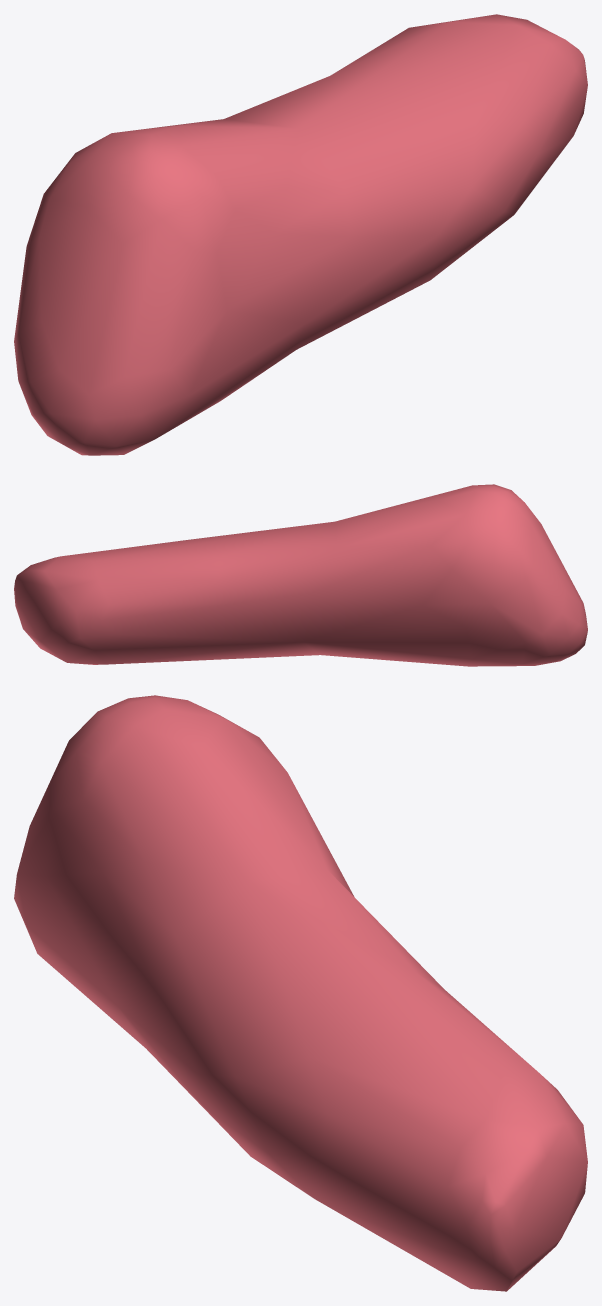
Rendered from fma66364_fj3476.glb.
3 renders of one model, top to bottom at view 1: azimuth 30°, elevation 25°; view 2: azimuth 150°, elevation 25°; view 3: azimuth 270°, elevation 25°, orthographic. The views are drawn at different scales.
Parts seen in each view (by area): view 1: FMA66364_FJ3476; view 2: FMA66364_FJ3476; view 3: FMA66364_FJ3476.
Part boxes in pixels (x1,y1,x2,y2): FMA66364_FJ3476: (14, 14, 587, 455); FMA66364_FJ3476: (14, 484, 587, 666); FMA66364_FJ3476: (14, 695, 587, 1291).
Size of the model in its own units: 0.0348 by 0.0129 by 0.0217.
